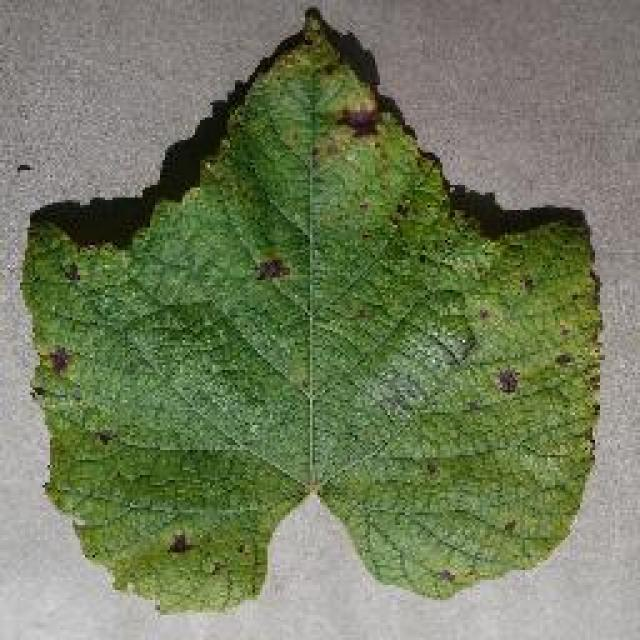Blight Fungus: (2, 25, 588, 635)
